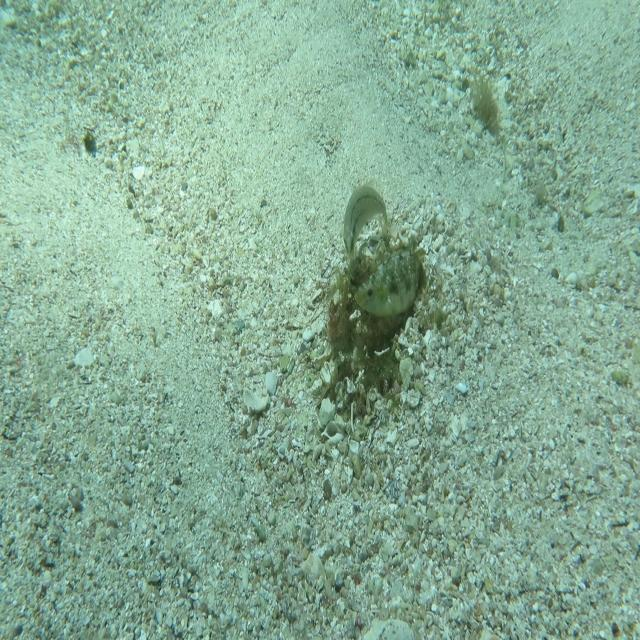SPA: (352, 243, 424, 319)
female: (342, 183, 388, 257)
nest: (312, 220, 444, 434)
